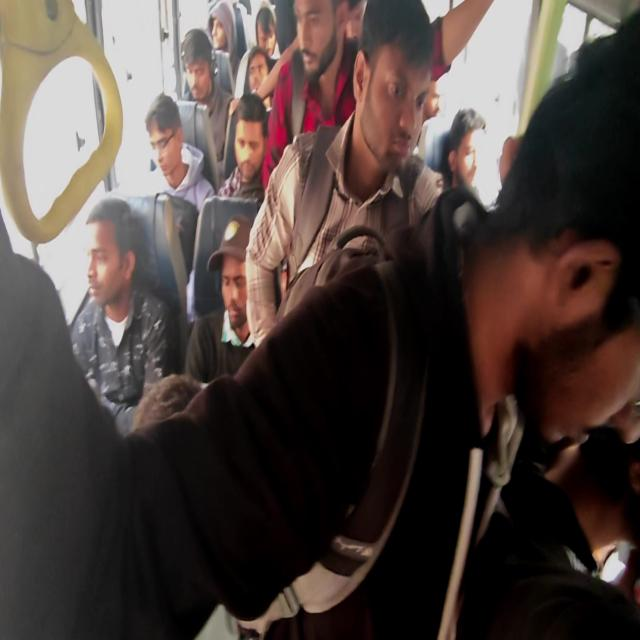person: (505, 112, 640, 383), (364, 11, 431, 172), (148, 92, 199, 193), (90, 210, 140, 312), (219, 239, 260, 337), (456, 112, 492, 216), (292, 4, 333, 88), (232, 100, 268, 182), (180, 37, 210, 87), (214, 10, 241, 54), (248, 56, 273, 100), (255, 14, 275, 56)
